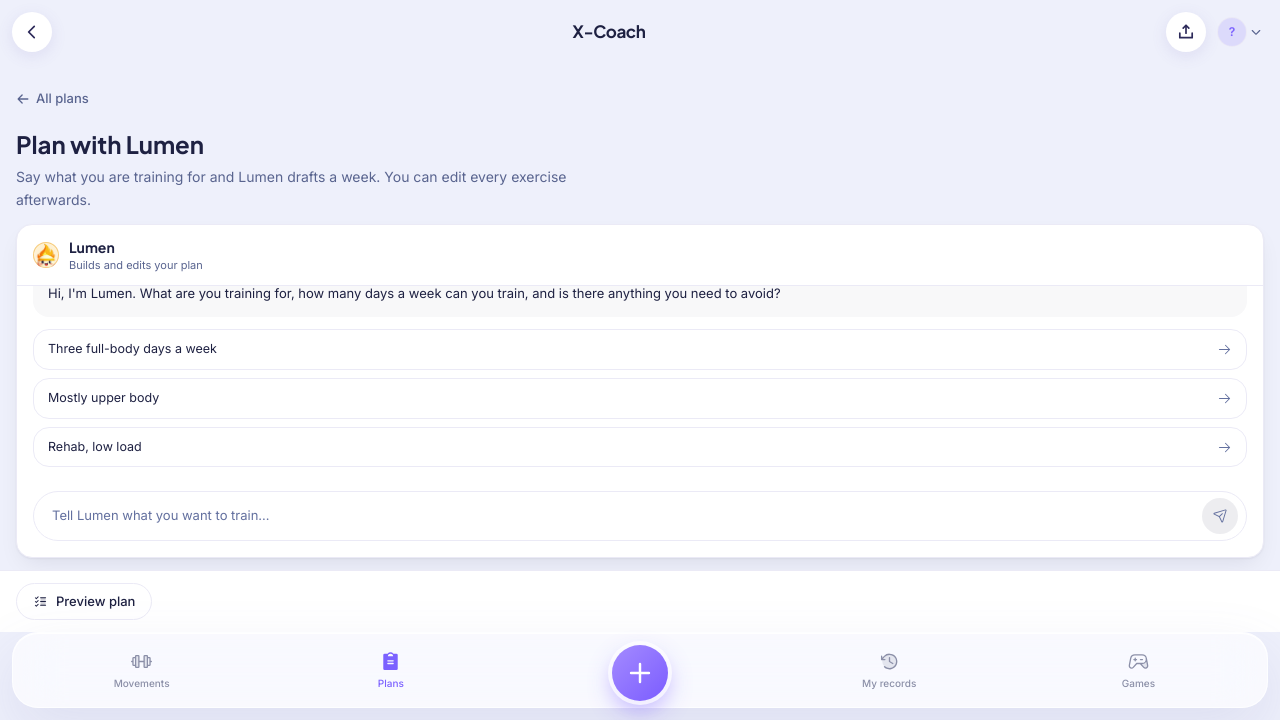
Scenario: PlanBuilder — on the phone › opens the preview as a dialog and closes it on Escape
(page scrolled)
Click the button "Preview plan". click: (84, 601)
box: top-left (16, 582), bottom-right (152, 620)
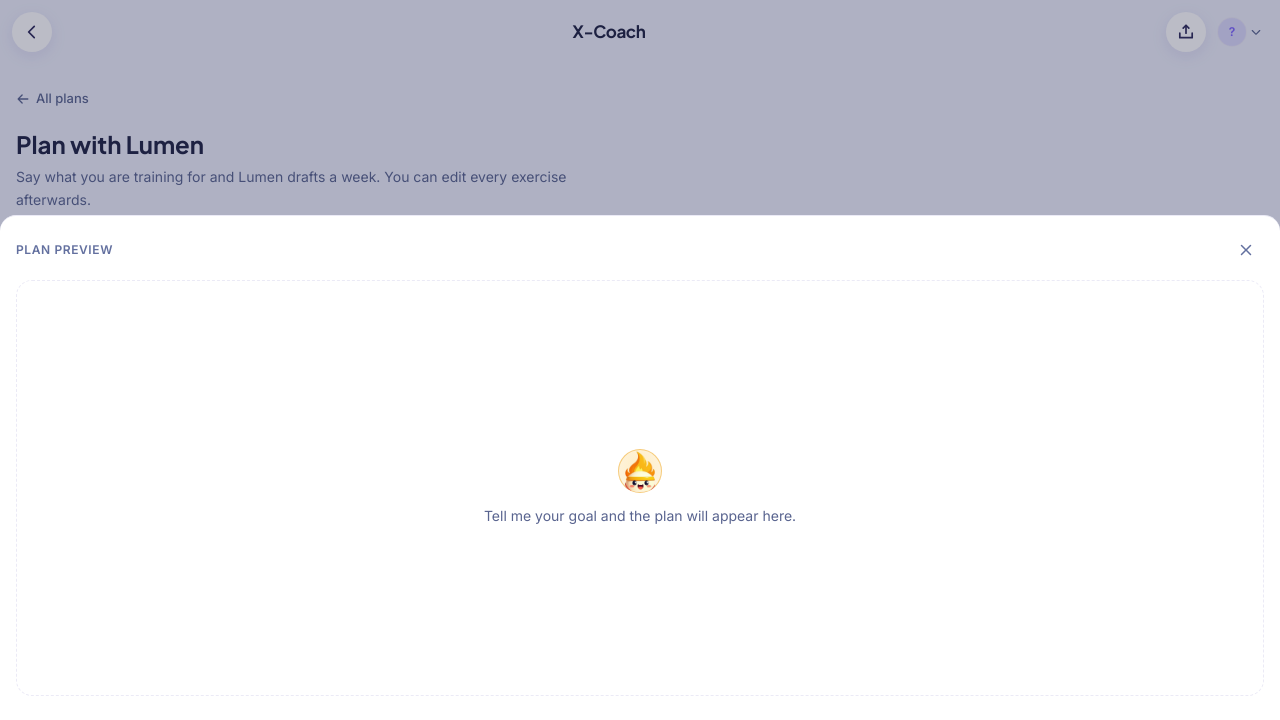
Expected: the text "Tell me your goal and the plan will appear here." is shown, top-left (484, 505), bottom-right (796, 527)
Press Escape
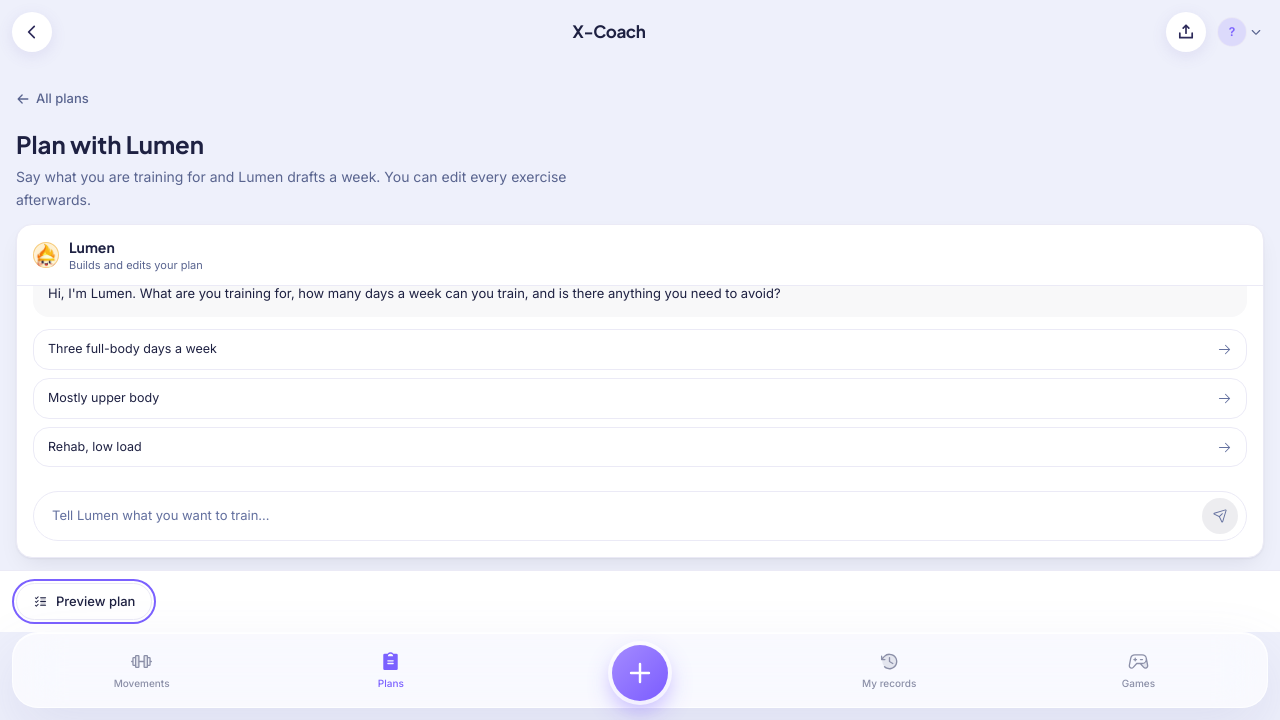
Expected: the dialog is gone
